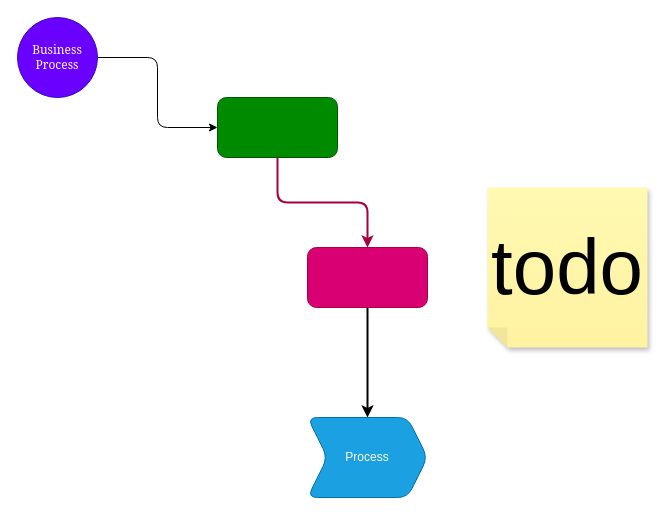
The diagram is 671 pixels wide and 515 high, and some of its shapes have lost their labels. Each missing label, with the centre of its shape:
"Strategic Intent" goes at pixel 277 127.
"Value stream" goes at pixel 367 277.
